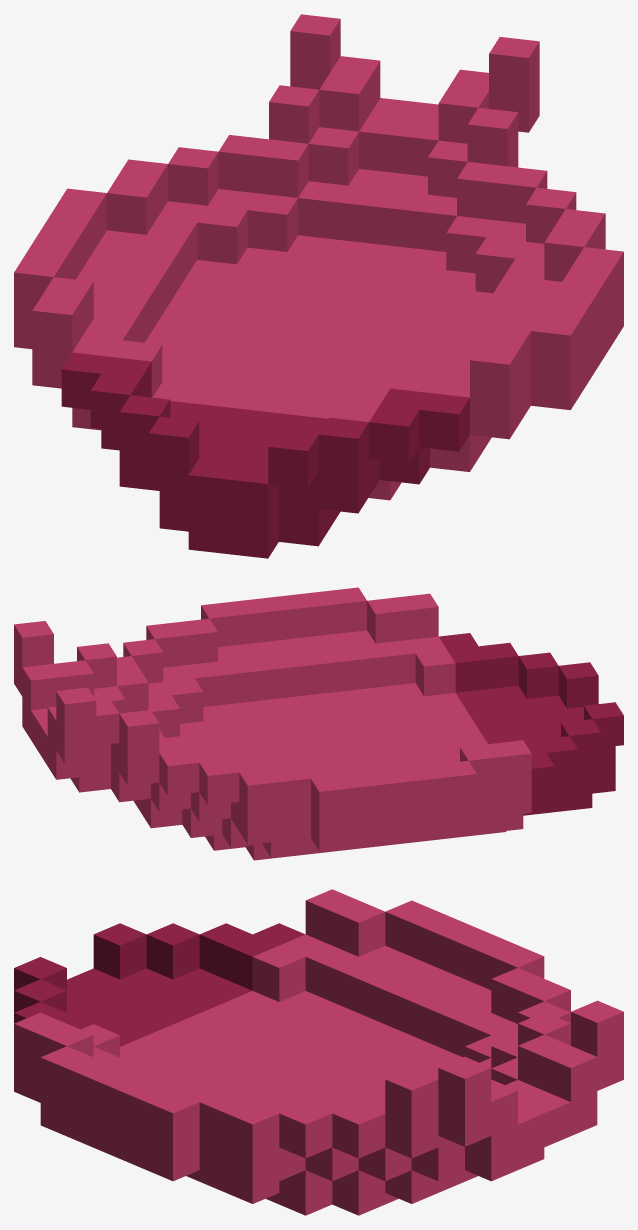
Rendered from item_PETAL.glb.
The picture shows the model from 3 angles, top to bottom: view 1: azimuth 30°, elevation 25°; view 2: azimuth 150°, elevation 25°; view 3: azimuth 270°, elevation 25°; orthographic projection. The views are drawn at different scales.
Visible parts, largest first — view 1: item_PETAL; view 2: item_PETAL; view 3: item_PETAL.
Boxes of the visible parts, x1,y1,x2,y2 form: item_PETAL: [14, 14, 623, 558]; item_PETAL: [14, 587, 623, 860]; item_PETAL: [14, 889, 623, 1215].
Size of the model in its own units: 0.1848 by 0.0682 by 0.1848.
1 material, 1 textured.
